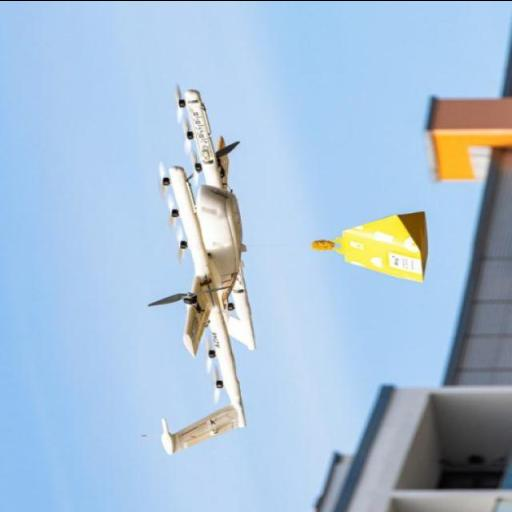uav: (151, 82, 262, 454)
